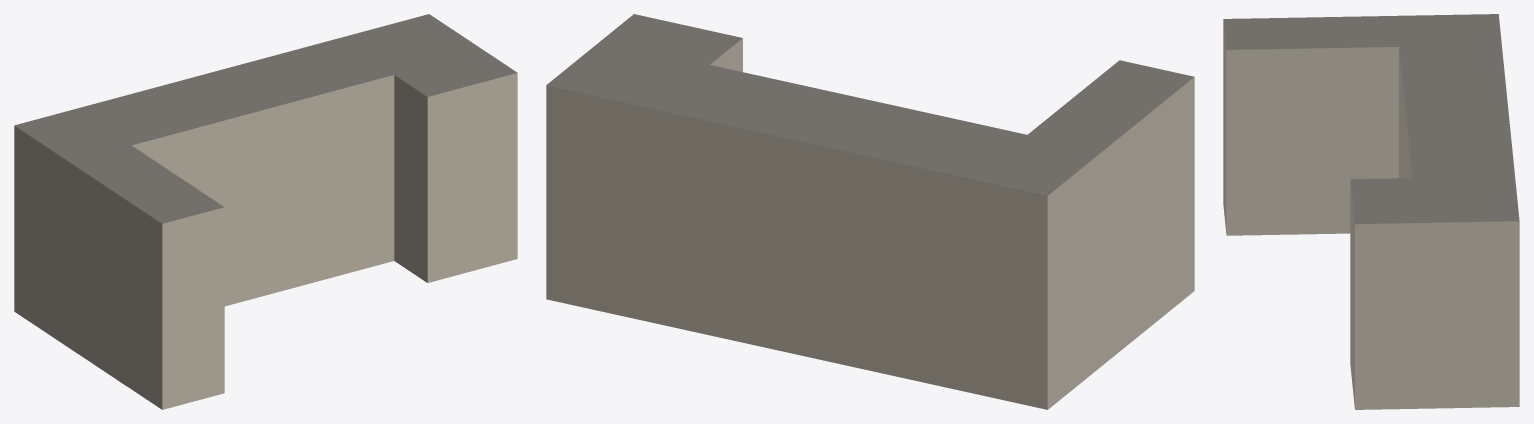
3 renders of one model, left to right at view 1: azimuth 30°, elevation 25°; view 2: azimuth 150°, elevation 25°; view 3: azimuth 270°, elevation 25°, orthographic. The views are drawn at different scales.
Visible parts, largest first — view 1: HP-w505641153; view 2: HP-w505641153; view 3: HP-w505641153.
Boxes of the visible parts, <box> form: HP-w505641153: <box>14,14,517,409</box>; HP-w505641153: <box>546,14,1194,409</box>; HP-w505641153: <box>1223,14,1519,409</box>.
Size of the model in its own units: 43.69 by 18 by 26.01.
